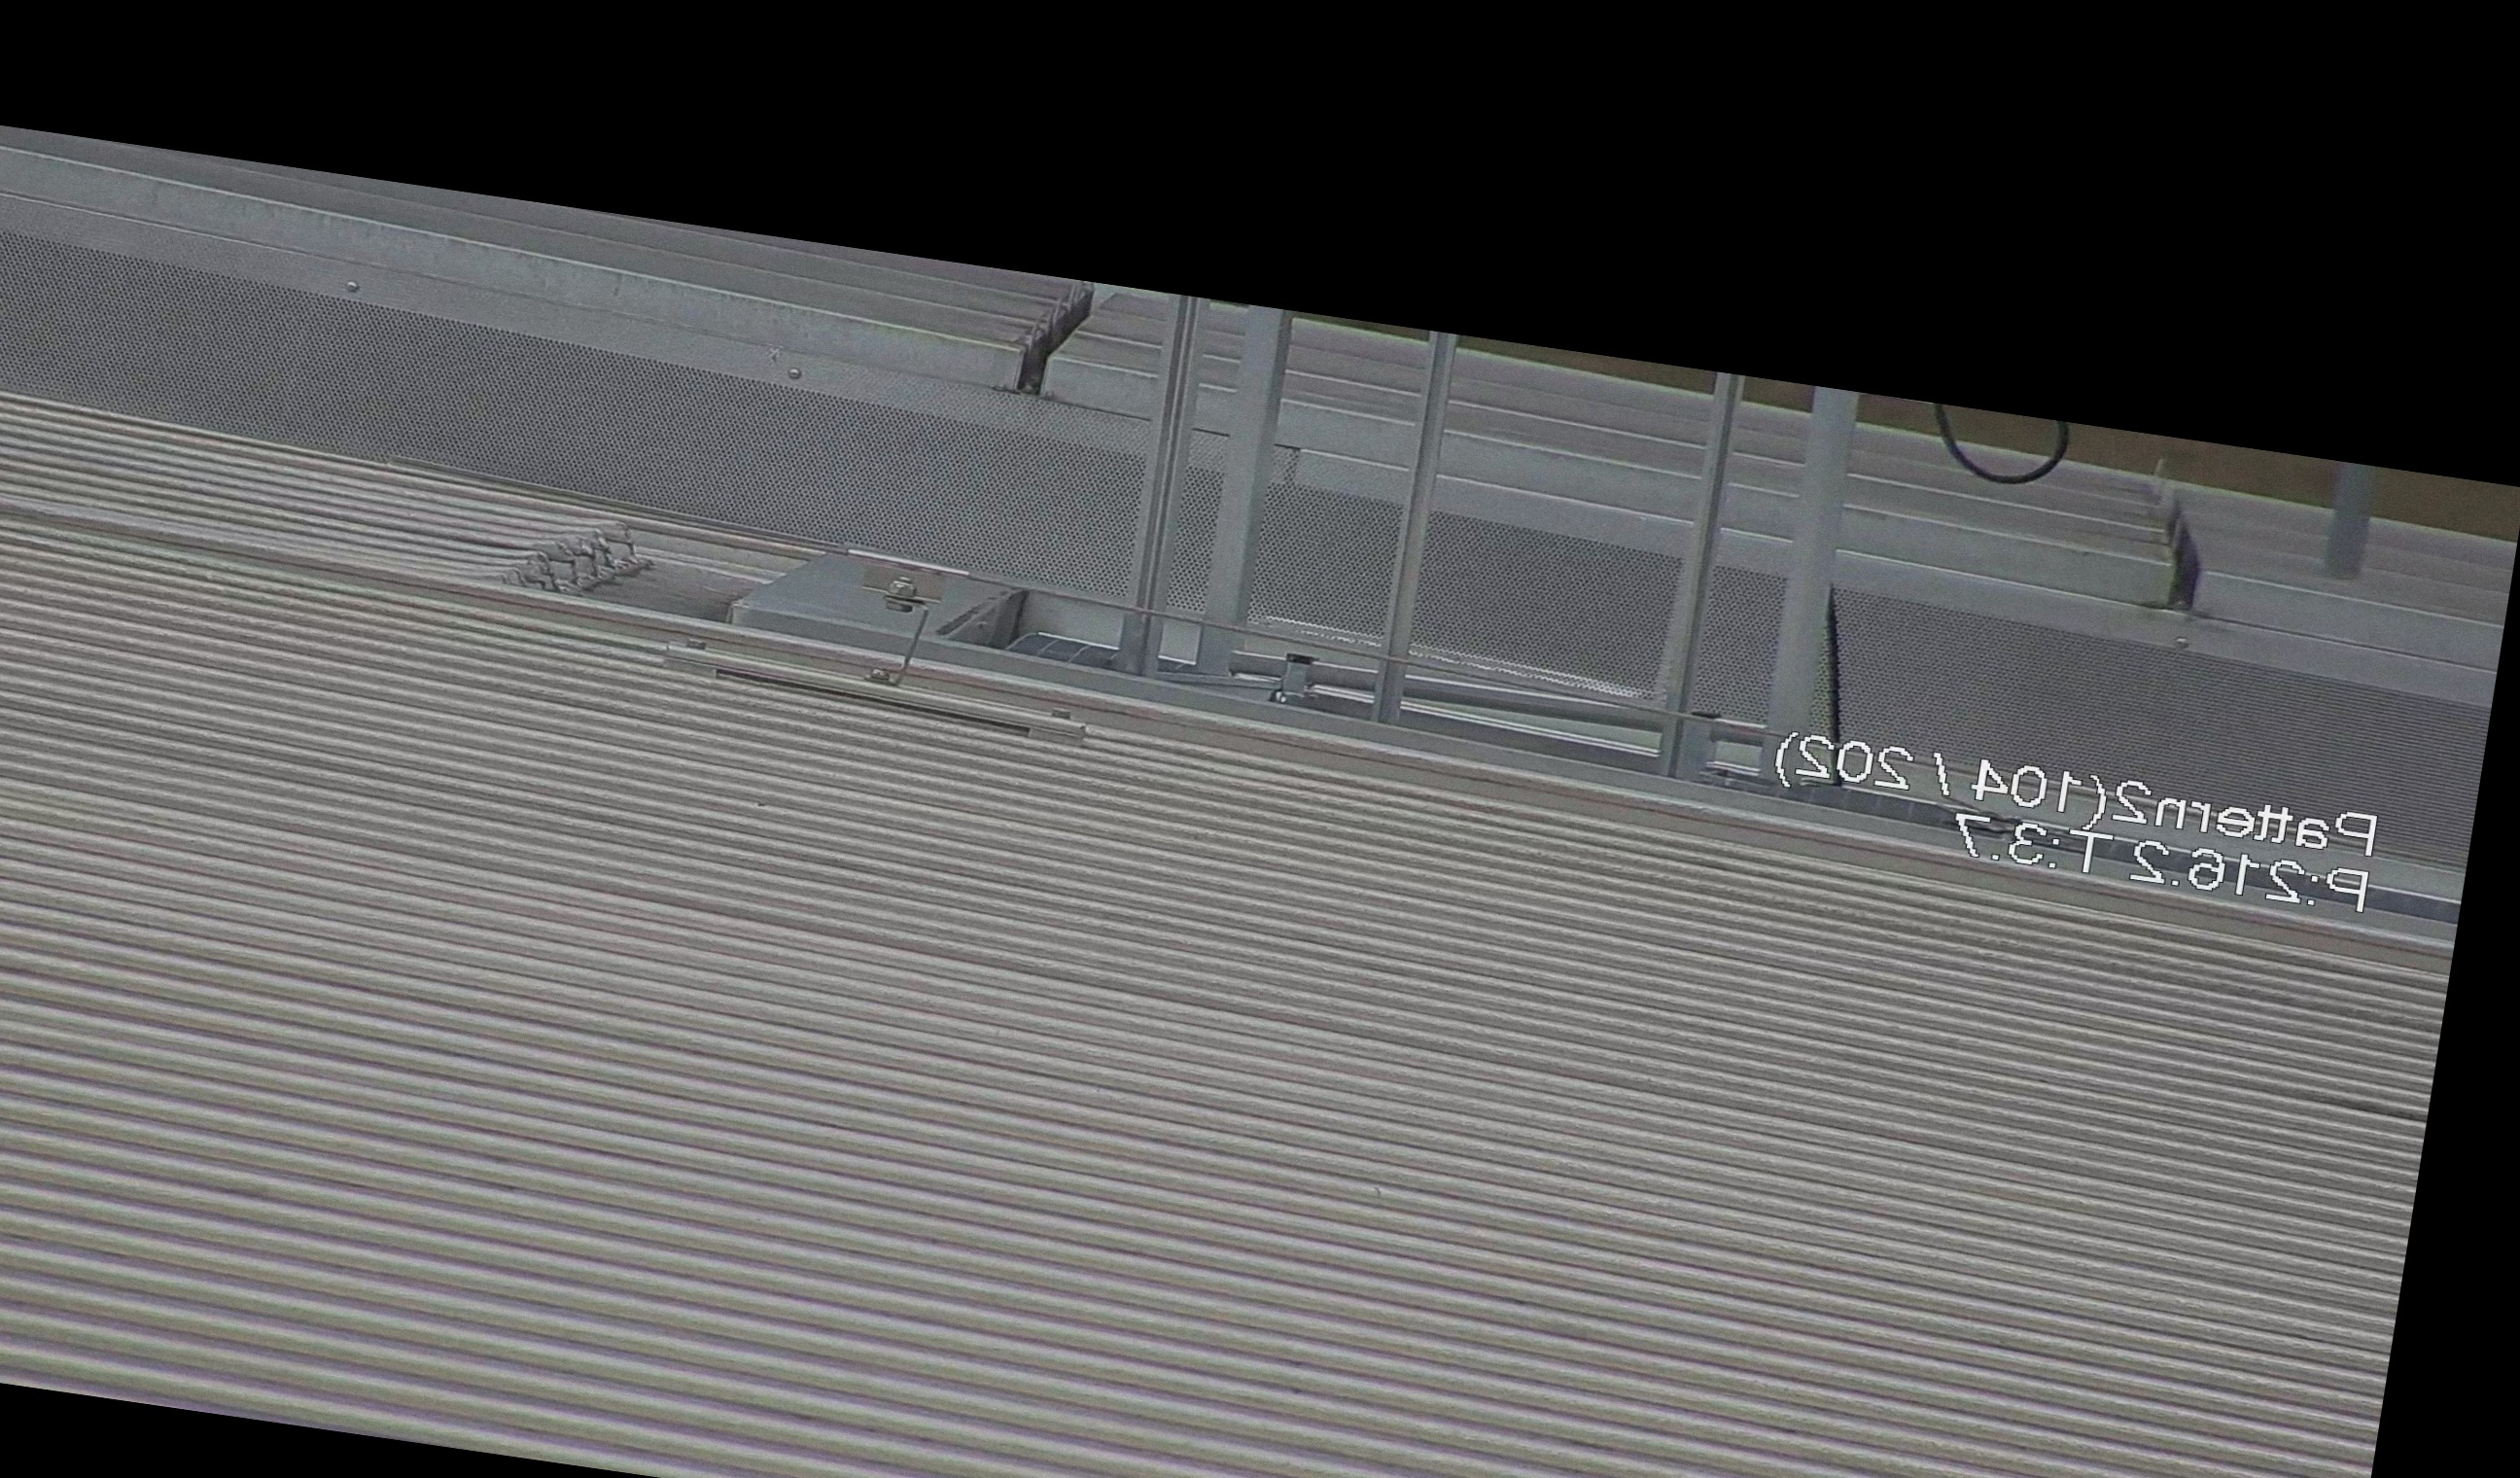Other: (1838, 313, 2103, 487)
